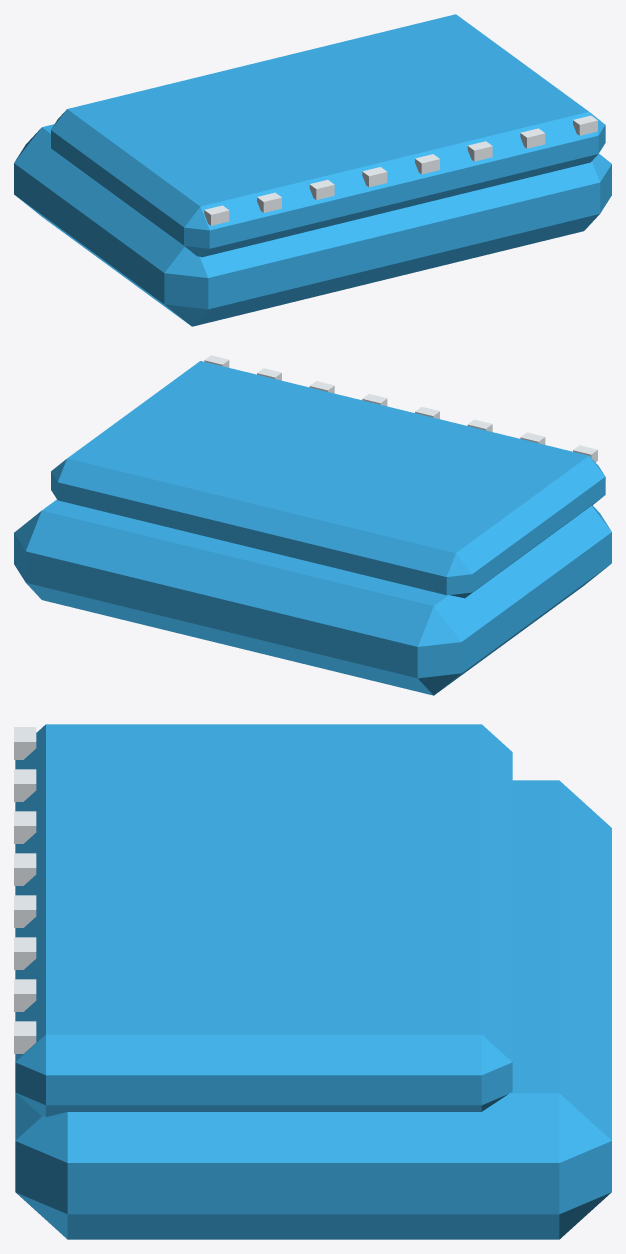
File: T_towel.glb
The picture shows the model from 3 angles, top to bottom: view 1: azimuth 30°, elevation 25°; view 2: azimuth 150°, elevation 25°; view 3: azimuth 270°, elevation 25°; orthographic projection. The views are drawn at different scales.
Visible parts, largest first — view 1: UpperFold, FoldedTowel, HemStitches; view 2: UpperFold, FoldedTowel, HemStitches; view 3: UpperFold, FoldedTowel, HemStitches.
Part boxes in pixels (left/top/right/bottom): UpperFold: left=51, top=14, right=605, bottom=257; FoldedTowel: left=14, top=124, right=611, bottom=326; HemStitches: left=204, top=115, right=597, bottom=225; UpperFold: left=51, top=361, right=605, bottom=598; FoldedTowel: left=14, top=499, right=611, bottom=695; HemStitches: left=204, top=355, right=597, bottom=462; UpperFold: left=15, top=724, right=512, bottom=1116; FoldedTowel: left=15, top=780, right=611, bottom=1239; HemStitches: left=14, top=727, right=36, bottom=1053.
Size of the model in its own units: 0.34 by 0.0905 by 0.2405.
